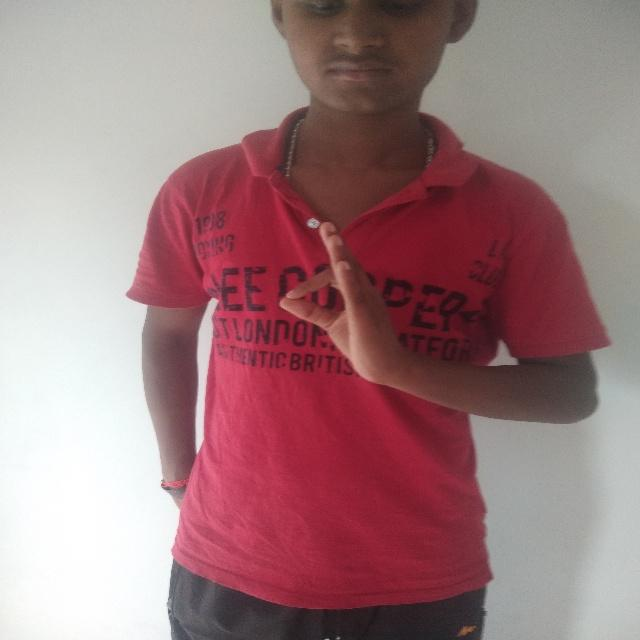Okay: (280, 217, 409, 398)
